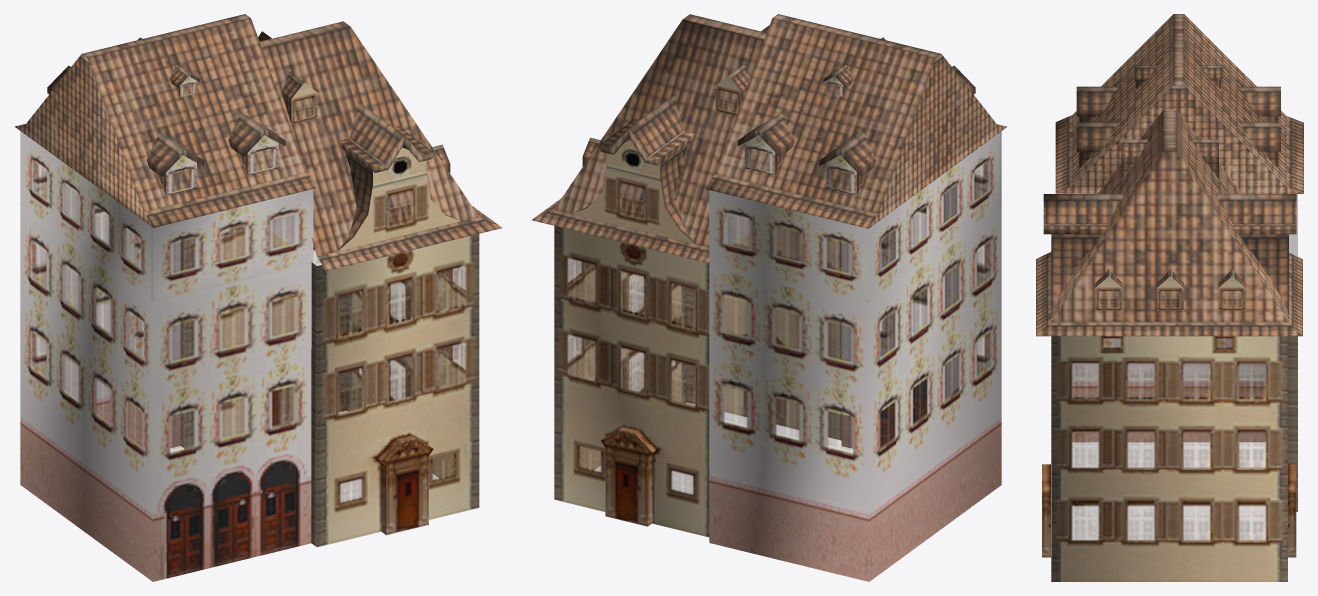
The model's file is Civilian - Residential Building - German Town House 1 - CBTownHs01.glb.
The picture shows the model from 3 angles, left to right: view 1: azimuth 30°, elevation 25°; view 2: azimuth 150°, elevation 25°; view 3: azimuth 270°, elevation 25°; orthographic projection. The views are drawn at different scales.
Parts seen in each view (by area): view 1: CBTOWNHS01; view 2: CBTOWNHS01; view 3: CBTOWNHS01.
Part boxes in pixels (x1,y1,x2,y2): CBTOWNHS01: (14, 14, 501, 581); CBTOWNHS01: (531, 14, 1007, 581); CBTOWNHS01: (1036, 14, 1303, 581).
Size of the model in its own units: 47.47 by 64.17 by 36.49.
Materials: 1 (1 with a texture image).
